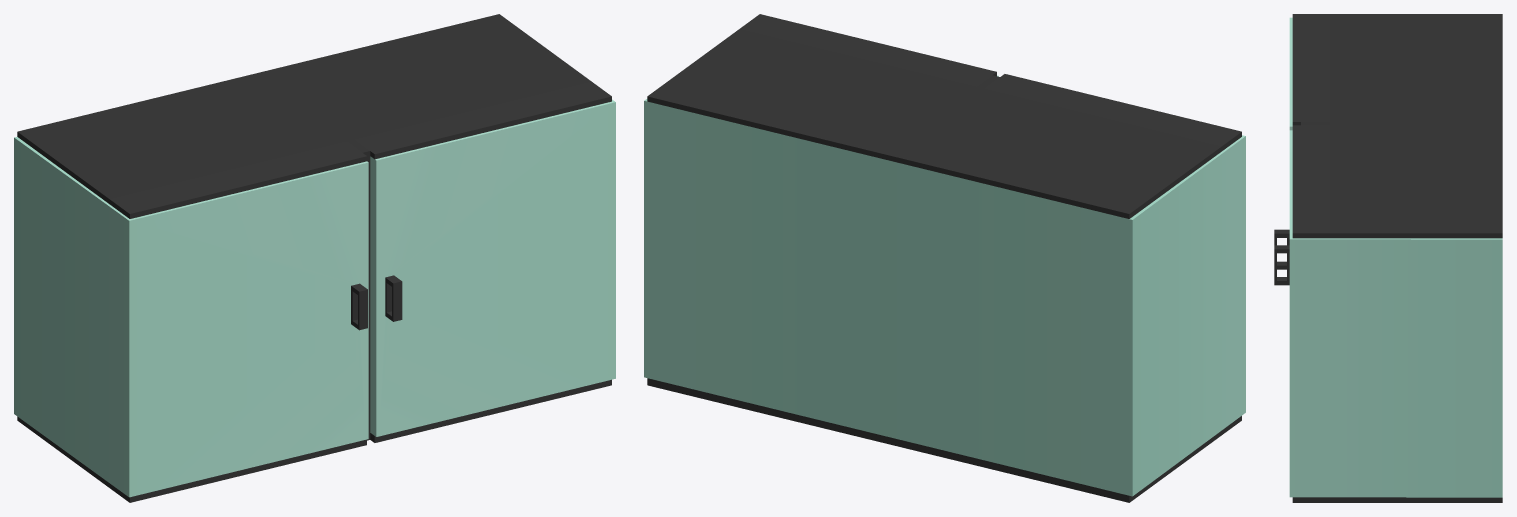
Rendered from Kitchen cabinet con UV.fbx.
3 renders of one model, left to right at view 1: azimuth 30°, elevation 25°; view 2: azimuth 150°, elevation 25°; view 3: azimuth 270°, elevation 25°, orthographic. The views are drawn at different scales.
Parts seen in each view (by area): view 1: Cube.008; view 2: Cube.008; view 3: Cube.008.
Part boxes in pixels (x1=…): Cube.008: x1=14, y1=14, x2=615, y2=502; Cube.008: x1=644, y1=14, x2=1245, y2=502; Cube.008: x1=1274, y1=14, x2=1502, y2=502.
Size of the model in its own units: 499 by 282 by 216.
